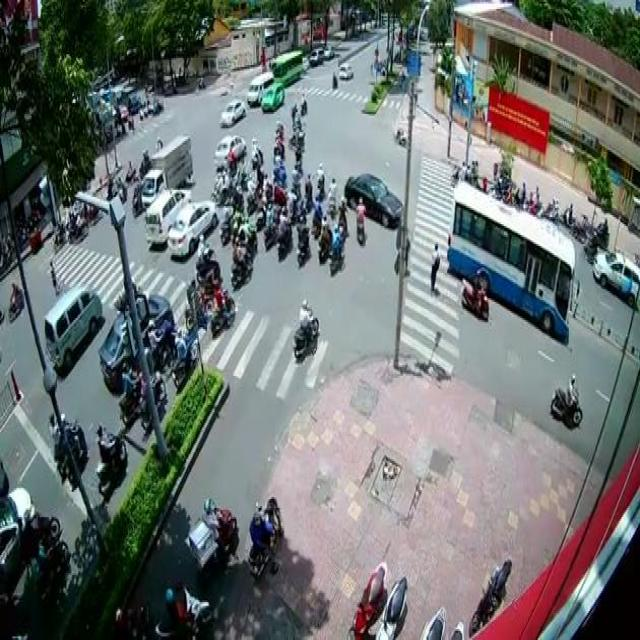bus: (446, 177, 574, 345)
car: (98, 293, 174, 392), (342, 172, 402, 228), (166, 197, 218, 255), (591, 252, 639, 308), (144, 184, 190, 240), (213, 134, 245, 161), (219, 98, 246, 126)
motorcycle: (94, 422, 127, 496), (550, 371, 583, 428), (292, 296, 320, 362), (460, 264, 489, 320), (171, 327, 197, 389), (230, 233, 253, 289), (294, 212, 311, 266), (329, 222, 344, 275), (278, 202, 292, 258), (354, 195, 364, 244), (315, 159, 326, 197), (327, 176, 337, 216), (250, 136, 262, 168)
truck: (42, 284, 100, 369), (139, 132, 192, 210)
